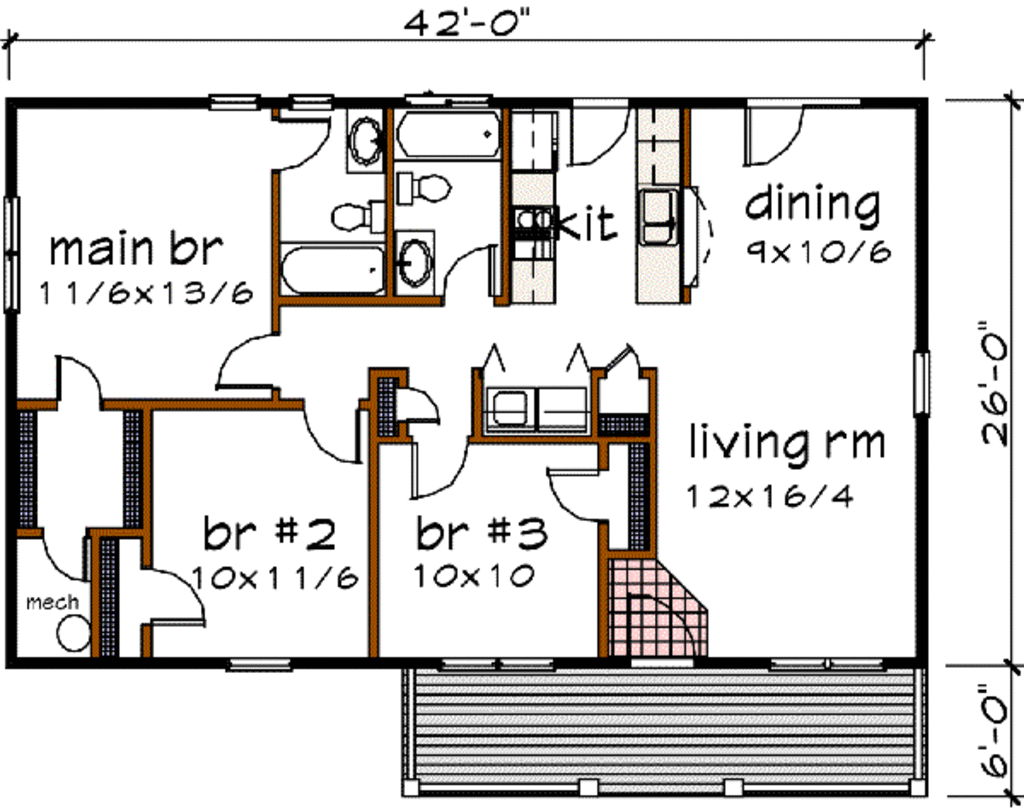door: (563, 100, 634, 171), (211, 330, 284, 397), (300, 402, 368, 472), (546, 458, 610, 530), (743, 96, 804, 170), (269, 110, 335, 175), (140, 558, 205, 620), (438, 241, 503, 302), (413, 438, 469, 497), (41, 521, 94, 580), (54, 355, 104, 406), (594, 337, 651, 378), (394, 386, 436, 421)
large_sink: (384, 161, 455, 216), (329, 190, 389, 245)
small_sink: (389, 225, 443, 298), (341, 106, 393, 175)
tub: (279, 237, 390, 298), (394, 108, 498, 165)
twin_sink: (641, 180, 686, 273)
window: (438, 653, 559, 678), (765, 652, 889, 673), (5, 192, 19, 317), (208, 90, 264, 120), (223, 652, 294, 673), (633, 652, 698, 672), (913, 350, 933, 415)
